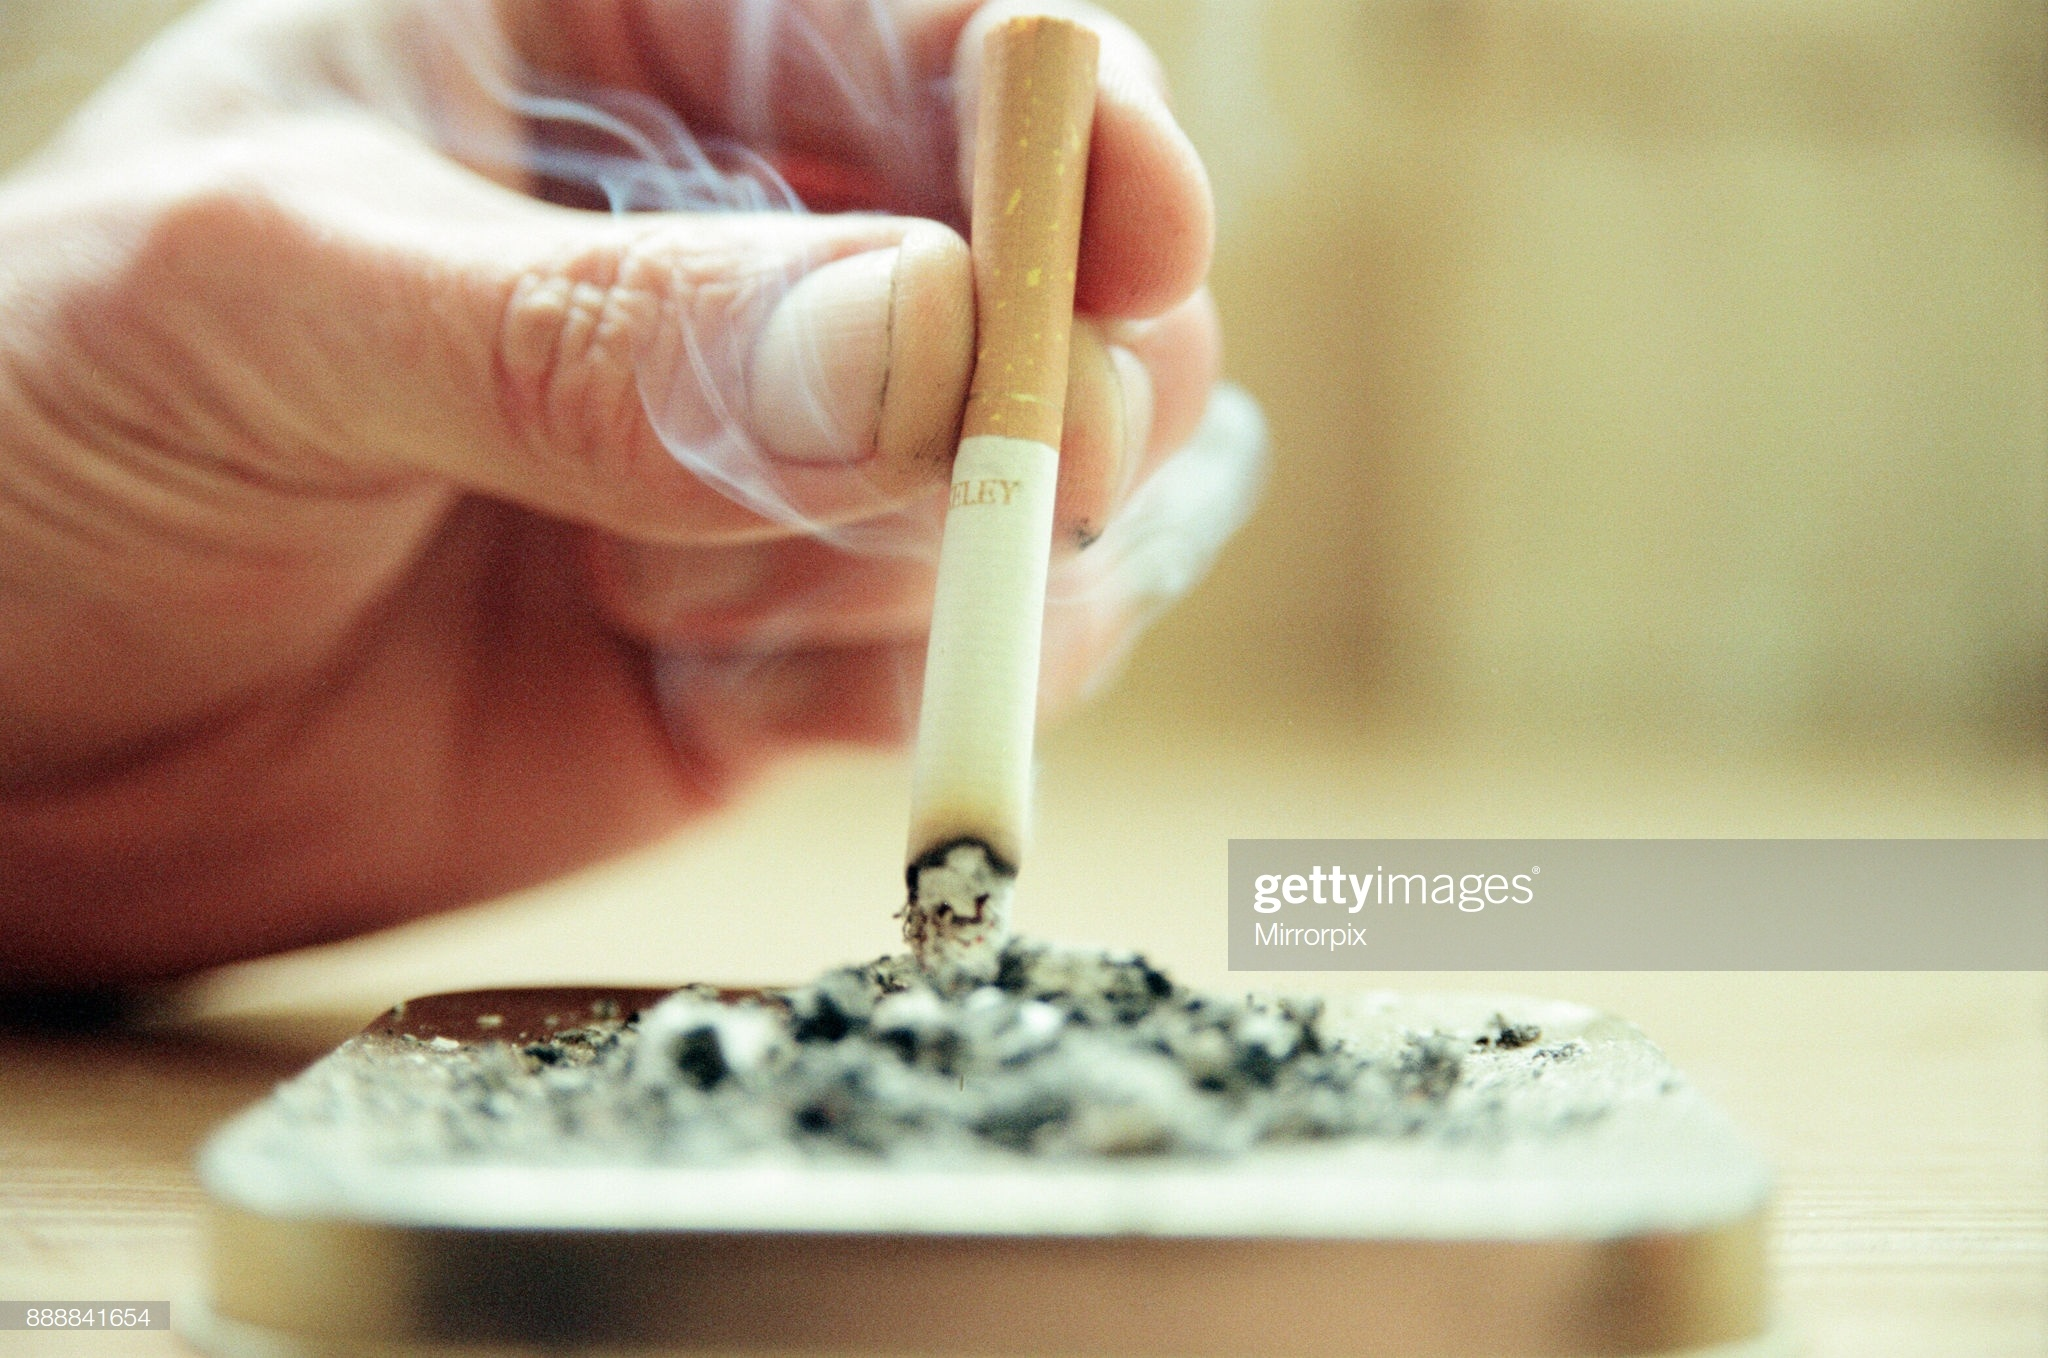sigaretta: (882, 11, 1104, 903)
